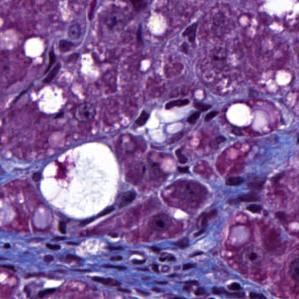ballooning: (39, 141, 122, 221)
